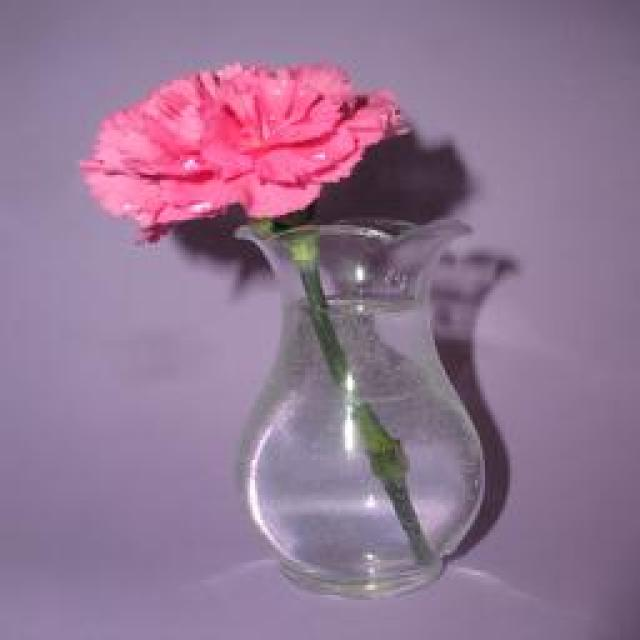carnation: (75, 54, 416, 226)
